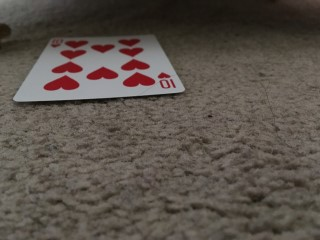TenOfHearts: (12, 34, 184, 102)
